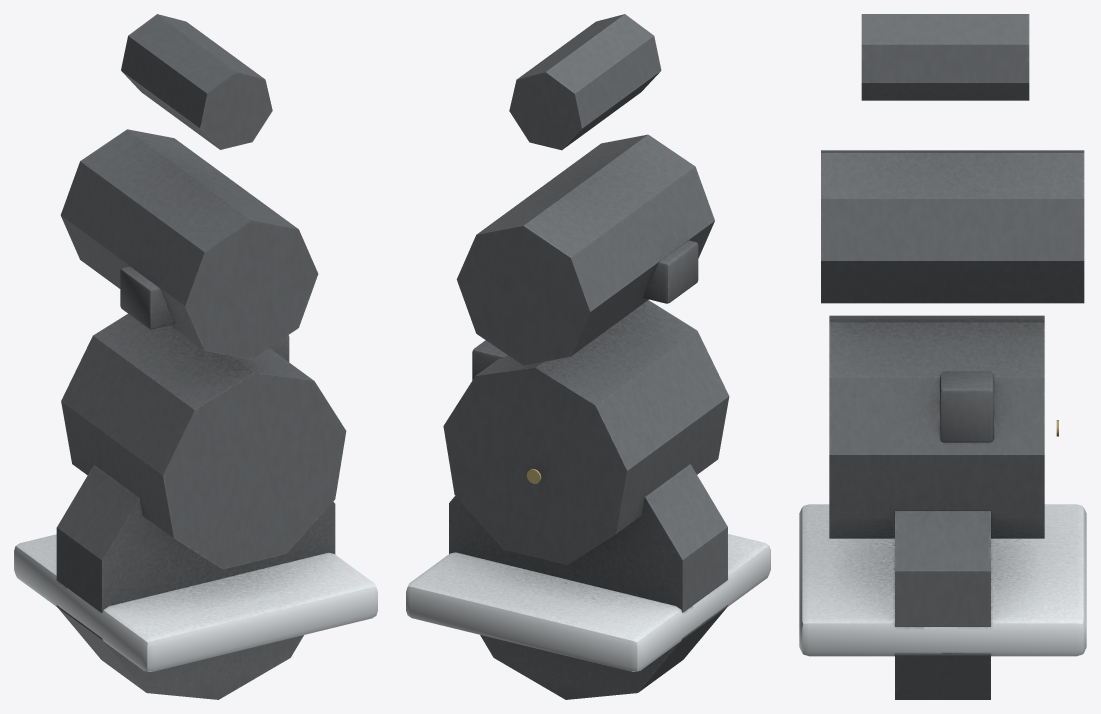
The model's file is chertov_finger.glb.
The picture shows the model from 3 angles, left to right: view 1: azimuth 30°, elevation 25°; view 2: azimuth 150°, elevation 25°; view 3: azimuth 270°, elevation 25°; orthographic projection. The views are drawn at different scales.
Parts seen in each view (by area): view 1: chertov_finger; view 2: chertov_finger; view 3: chertov_finger.
Boxes of the visible parts, <box> form: chertov_finger: <box>14,14,377,699</box>; chertov_finger: <box>406,14,770,699</box>; chertov_finger: <box>799,14,1086,699</box>.
Bounding box in the file's own units: 2.4 × 6.23 × 2.4.
1 material, 1 textured.
